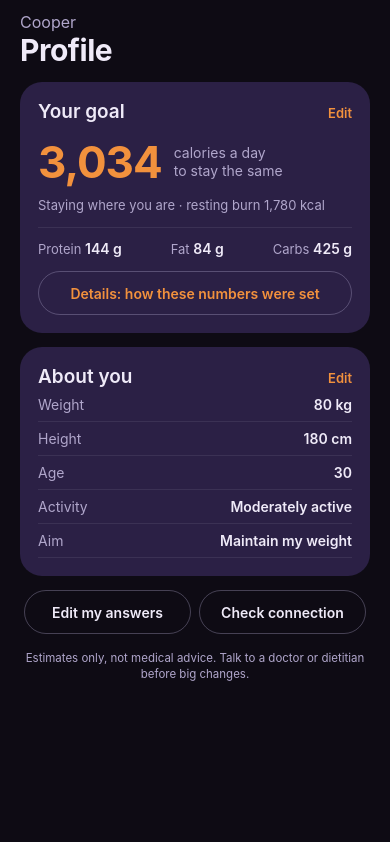
Test: ProfileScreen › says nothing is added or removed when staying the same
The image size is (390, 842).
Expected: the text "calories a day to stay the same" is shown, [174,144,283,180]
Expected: the text "Staying where you are · resting burn 1,780 kcal" is shown, [38,197,352,213]
Step 1. Click the button labelled "Details: how these numbers were set" → (195, 293), box [38,271,352,315]
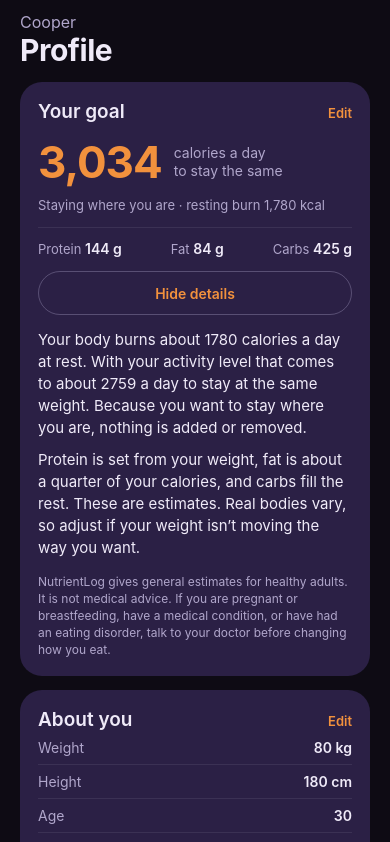
Expected: the text "nothing is added or removed" is shown, [38,396,328,437]
